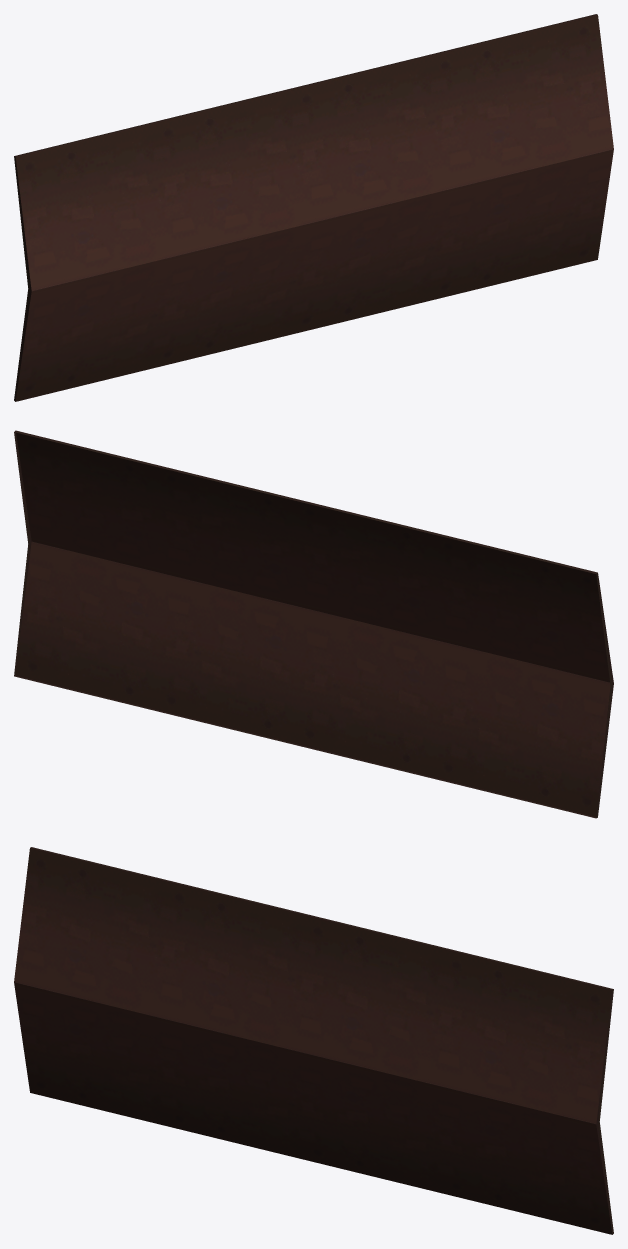
Rendered from top_house_d10bcda7__ZombiesII_depot_diffuse_05_c6dd1604_c1f257.obj.
3 renders of one model, top to bottom at view 1: azimuth 30°, elevation 25°; view 2: azimuth 150°, elevation 25°; view 3: azimuth 330°, elevation 25°, orthographic.
Bounding box in the file's own units: 46.42 × 18.67 × 2.44.
1 material, 1 textured.
